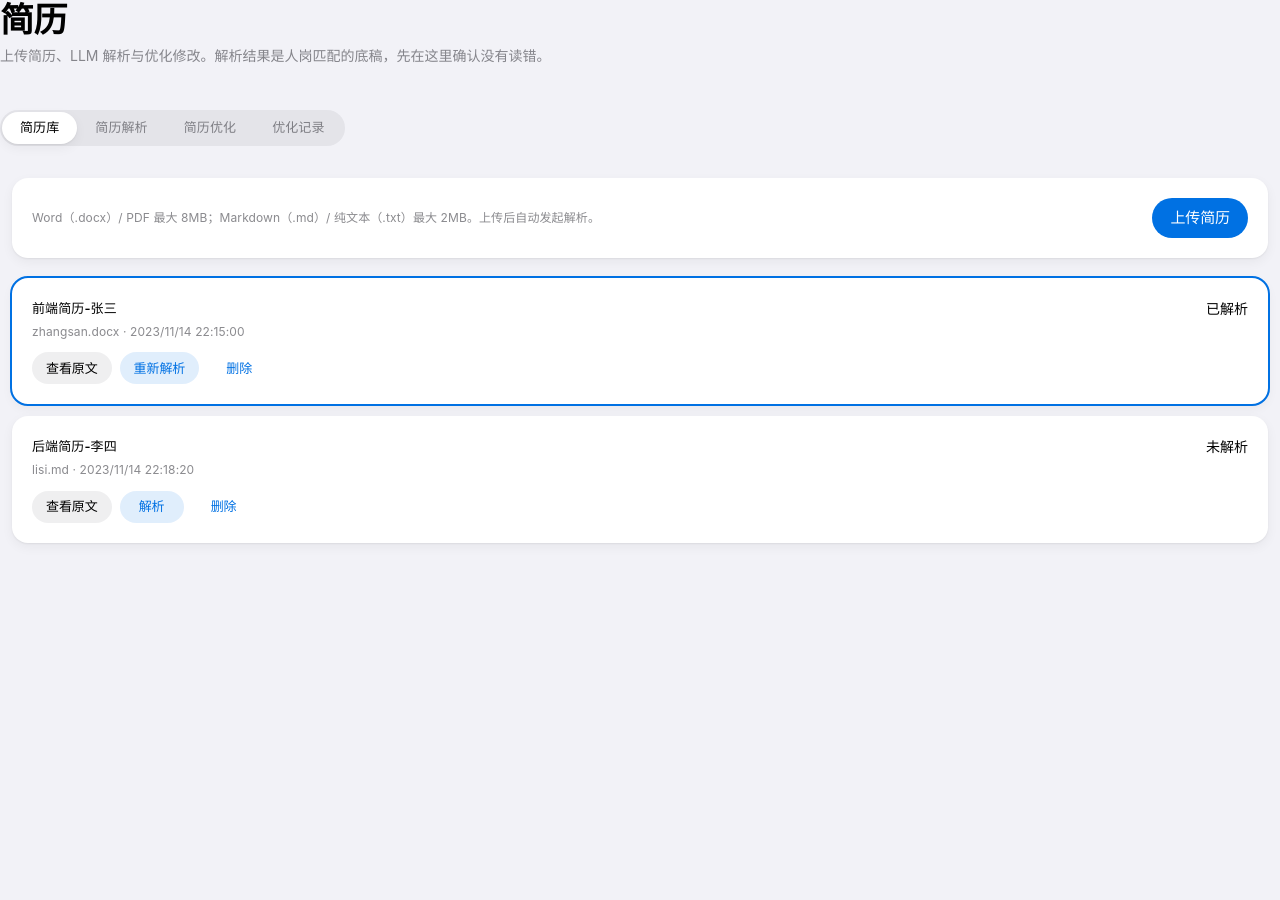
ResumesPage 简历库 › 查看原文在 Sheet 里展示 raw
The image size is (1280, 900).
Click the button with aria-label "查看原文「前端简历-张三」".
click(72, 368)  # box left=32, top=352, right=112, bottom=384
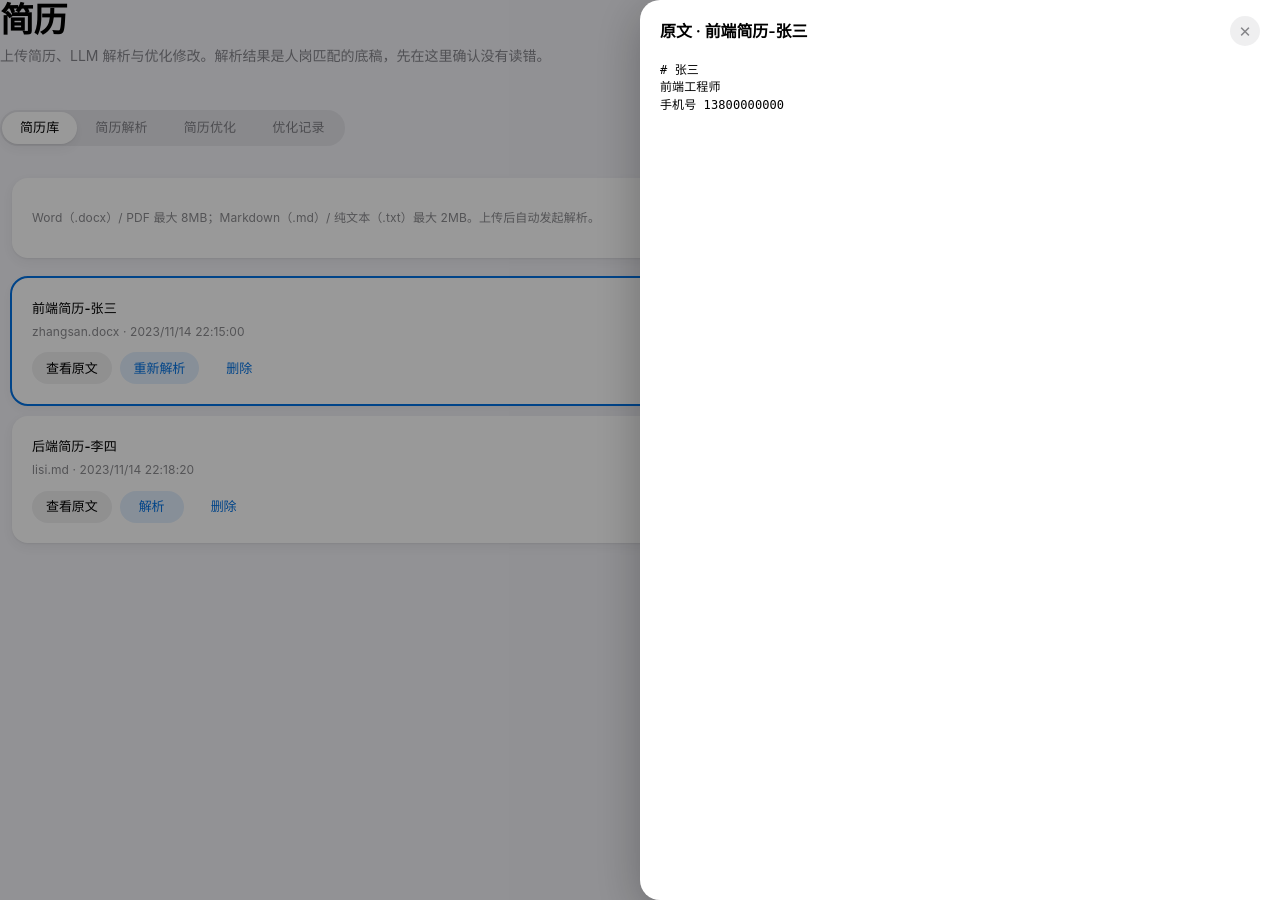
Now the text "# 张三 前端工程师 手机号 13800000000" is shown, box left=660, top=63, right=784, bottom=112
